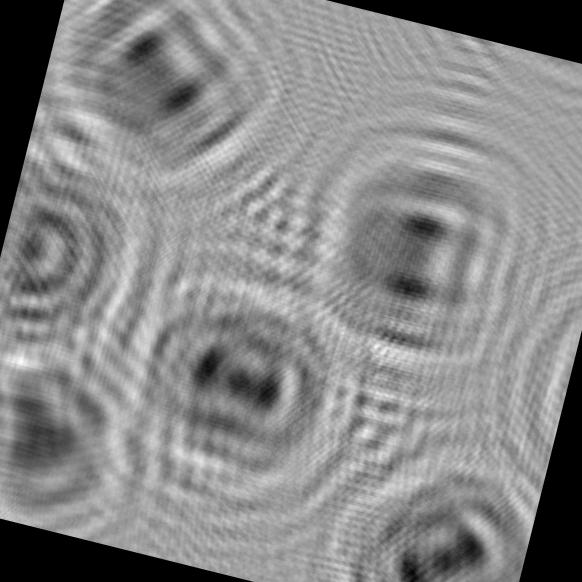A: (0, 299, 195, 554)
B: (72, 220, 409, 556), (280, 405, 548, 582)
D: (0, 96, 217, 429)
E: (256, 92, 574, 441), (19, 0, 321, 236)
